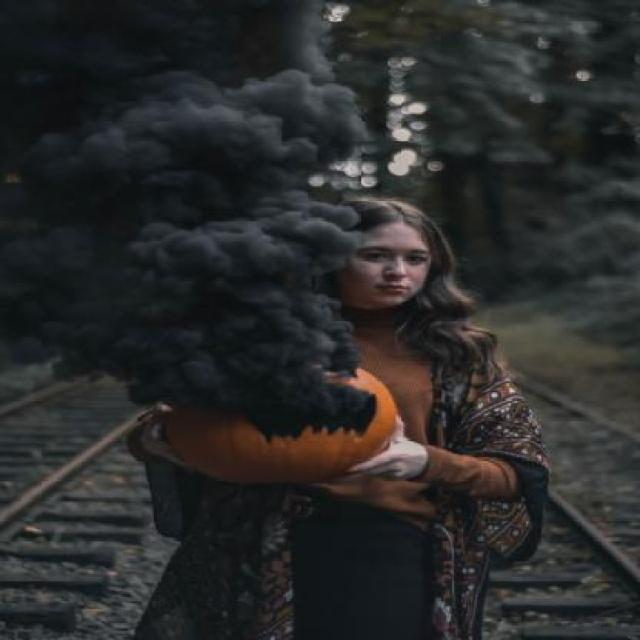Smoke: (2, 0, 383, 431)
